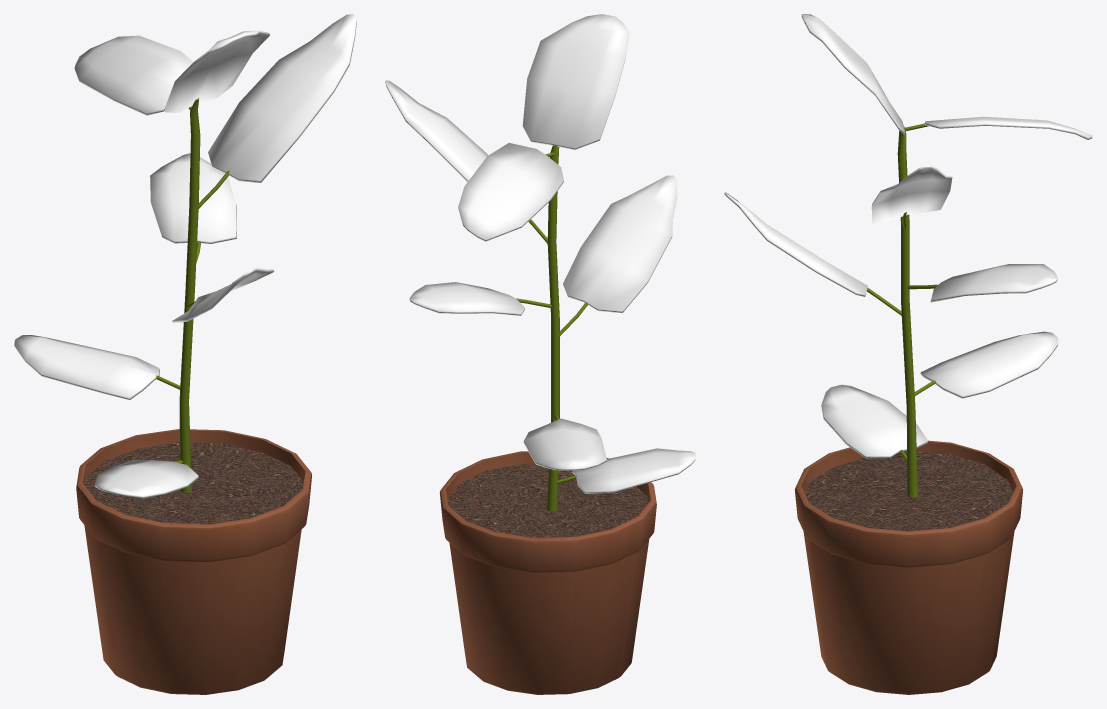
File: Plant.fbx
3 renders of one model, left to right at view 1: azimuth 30°, elevation 25°; view 2: azimuth 150°, elevation 25°; view 3: azimuth 270°, elevation 25°, orthographic. The views are drawn at different scales.
Visible parts, largest first — view 1: Plant_1, Leaf; view 2: Plant_1, Leaf; view 3: Plant_1, Leaf.
Part boxes in pixels (x1,y1,x2,y2): Plant_1: (76,98,311,694); Leaf: (14,14,356,498); Plant_1: (439,145,656,694); Leaf: (385,14,695,493); Plant_1: (795,123,1022,694); Leaf: (724,14,1092,458).
Size of the model in its own units: 188 by 406 by 213.
